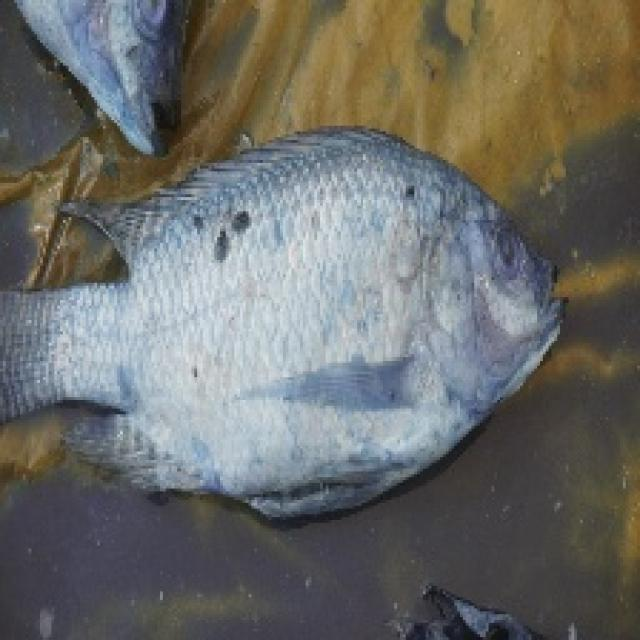Non-Fresh: (23, 148, 600, 509)
